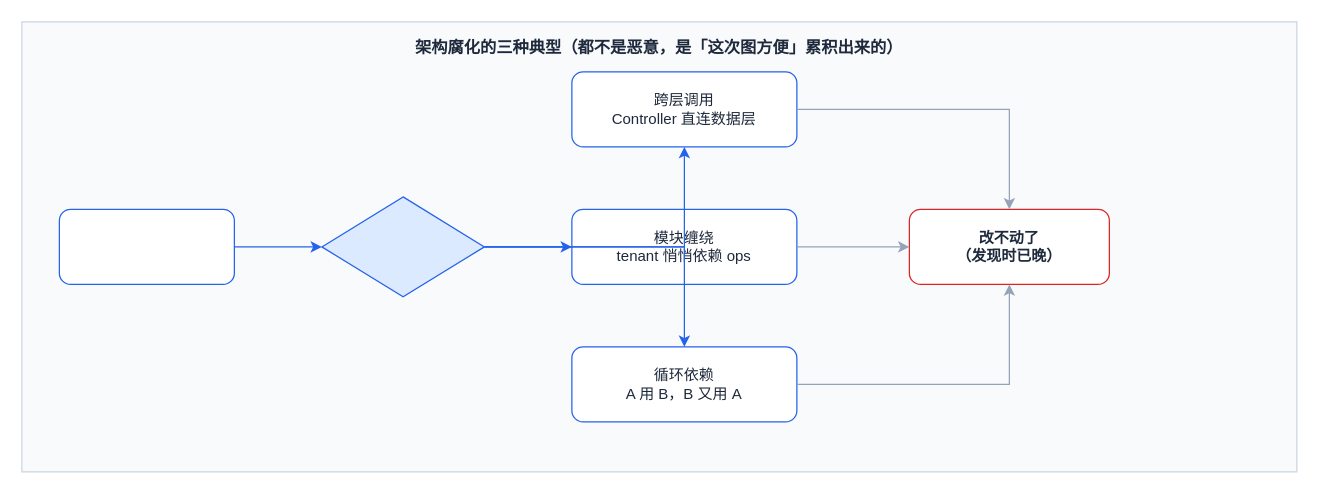
Some shapes in this 1319 by 494 pixel diagram are drawn without their labels. The shapes that lost their labels are listed below. From the top down, each one's box as (x1, y1, x2, y2) in pixels, then its label:
(58, 208, 234, 284): 某次赶需求 「先这么写」
(321, 196, 484, 297): 越界 （没人拦）
